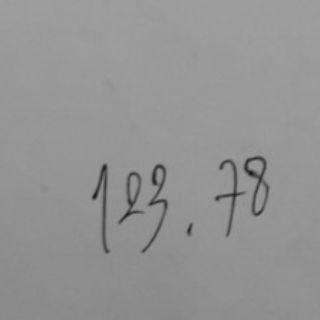.: (183, 212, 199, 239)
1: (89, 163, 116, 260)
2: (115, 165, 146, 226)
3: (144, 157, 174, 254)
7: (214, 154, 246, 239)
8: (242, 151, 280, 221)
